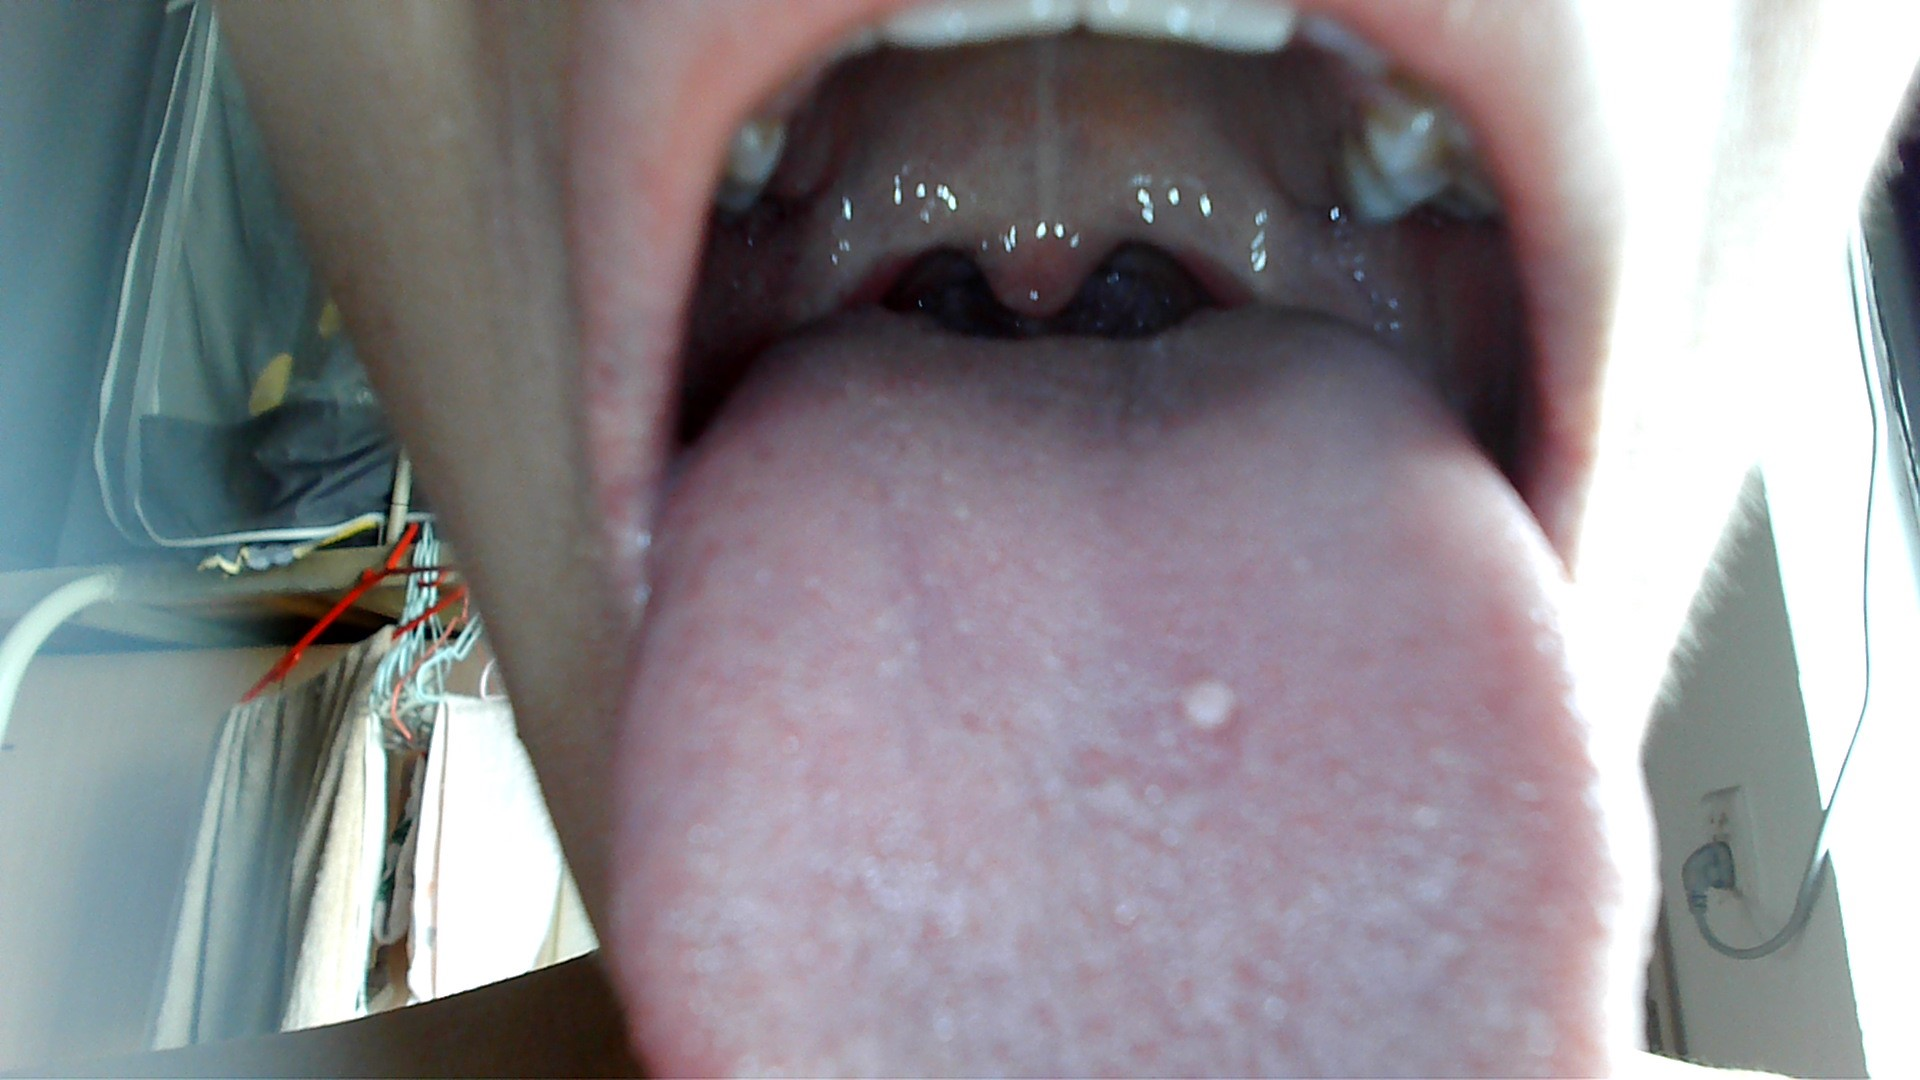throat: (778, 193, 918, 320), (1166, 179, 1305, 305)
